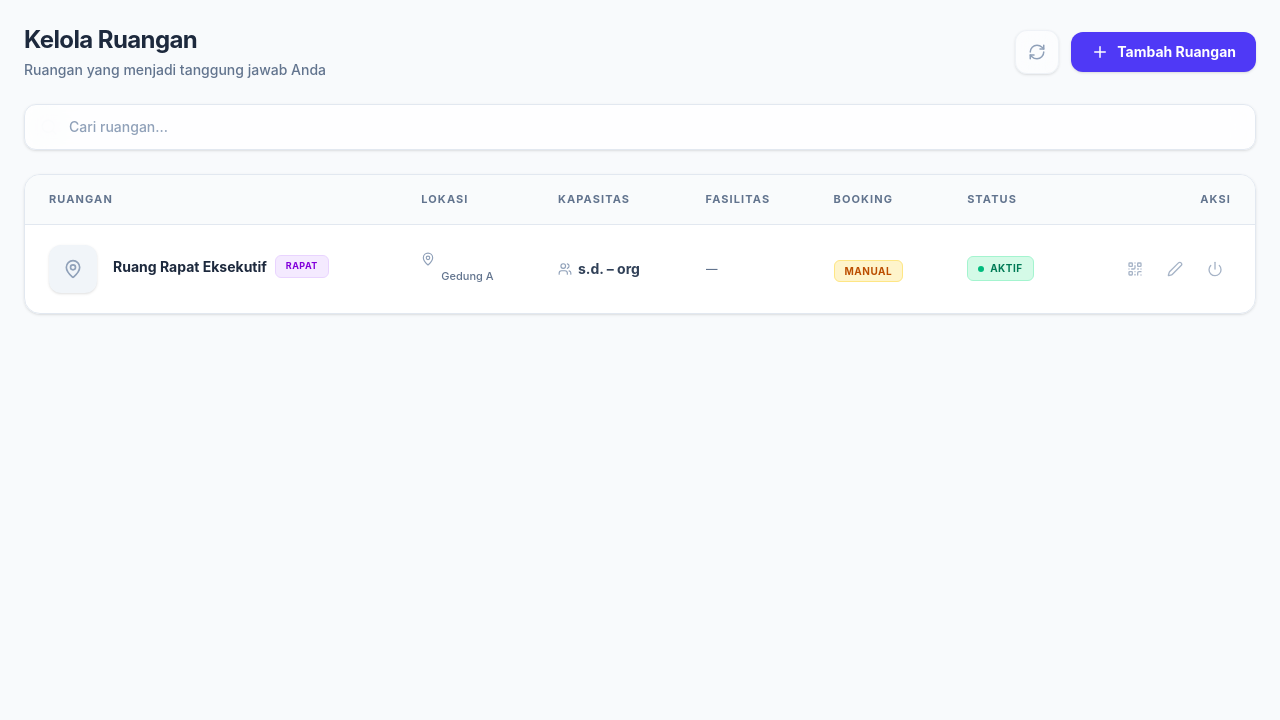
it: RoomManagement Component › shows confirmation dialog when toggle status is clicked
The width and height of the screenshot is (1280, 720).
Expected: the text "Ruang Rapat Eksekutif" is shown, x1=113 y1=258 x2=267 y2=274
Find and click the toggle status button
What coordinates should you click on to do the following:
click the button titled "Nonaktifkan"
I would click on:
 (1215, 268)
Its box is x1=1199 y1=252 x2=1231 y2=284.
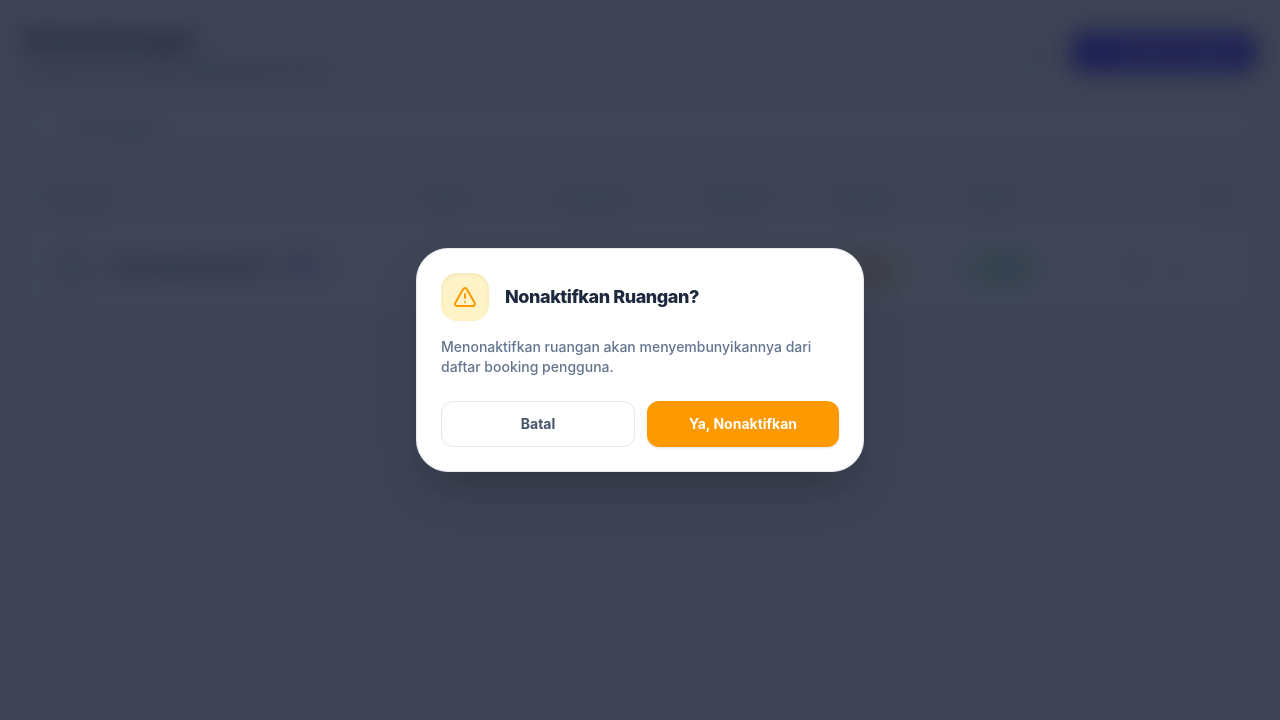
Result: the heading "Nonaktifkan Ruangan?" is shown at x1=505 y1=283 x2=699 y2=311
